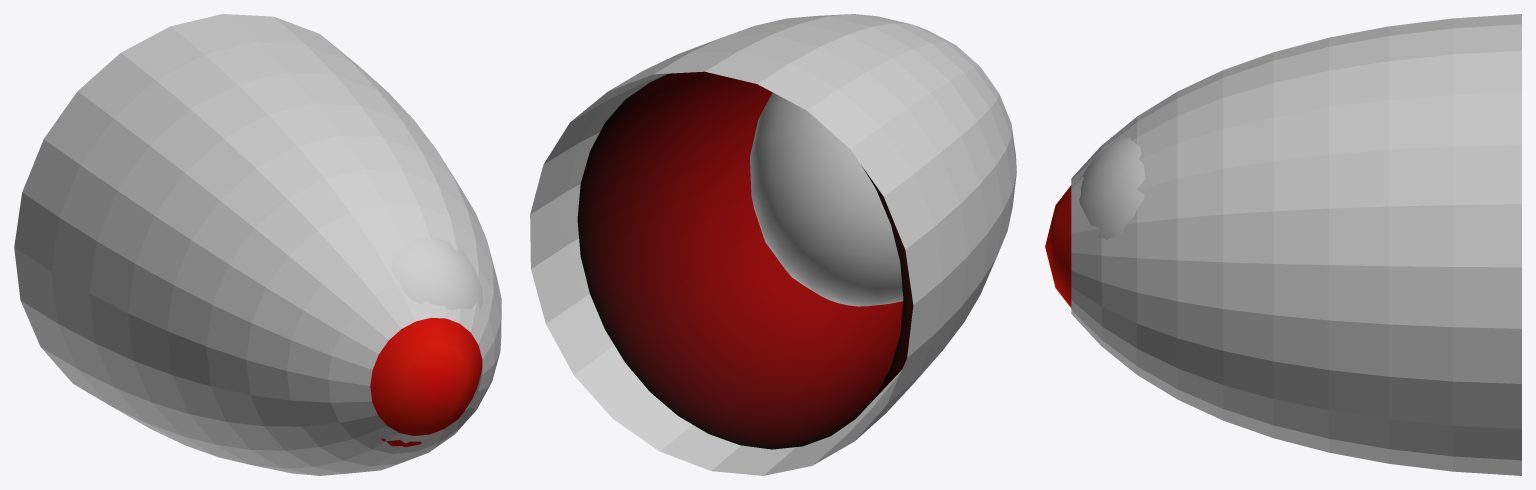
The model's file is pref_fx_Scorbunny_spell01A_bullet_lv3.fbx.
The picture shows the model from 3 angles, left to right: view 1: azimuth 30°, elevation 25°; view 2: azimuth 150°, elevation 25°; view 3: azimuth 270°, elevation 25°; orthographic projection. The views are drawn at different scales.
Visible parts, largest first — view 1: wind, ballglow, ballwave; view 2: wind, ballglow, ballwave; view 3: wind, ballwave, ballglow.
Boxes of the visible parts, <box> form: wind: <box>14,14,501,475</box>; ballglow: <box>370,317,482,447</box>; ballwave: <box>391,237,482,310</box>; wind: <box>530,14,1016,475</box>; ballglow: <box>577,71,913,449</box>; ballwave: <box>750,92,903,306</box>; wind: <box>1071,14,1521,475</box>; ballwave: <box>1079,137,1144,239</box>; ballglow: <box>1045,185,1071,307</box>.
Bounding box in the file's own units: 2.14 × 2.13 × 2.25.
